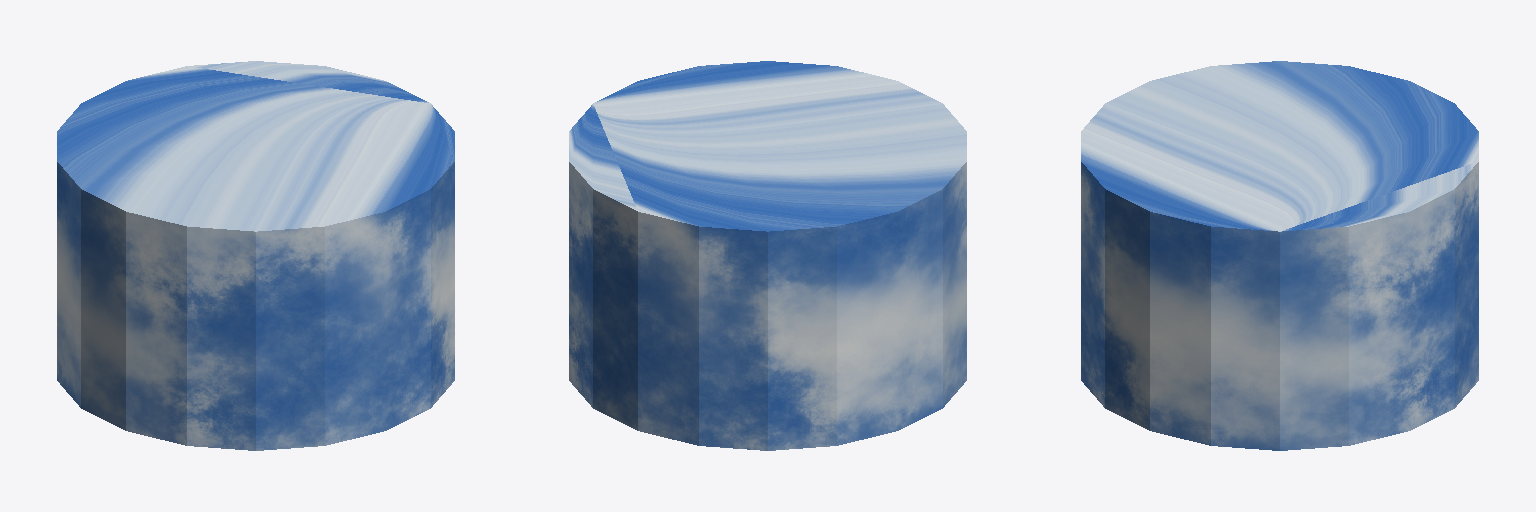
3 views of the same model, side by side, from view 1: azimuth 30°, elevation 25°; view 2: azimuth 150°, elevation 25°; view 3: azimuth 270°, elevation 25° (orthographic).
Parts seen in each view (by area): view 1: Cylinder001; view 2: Cylinder001; view 3: Cylinder001.
Part boxes in pixels (x1,y1,x2,y2): Cylinder001: (57, 61, 454, 450); Cylinder001: (569, 61, 966, 450); Cylinder001: (1081, 61, 1478, 450).
Bounding box in the file's own units: 10918 × 6542 × 10752.
8 materials, 8 textured.